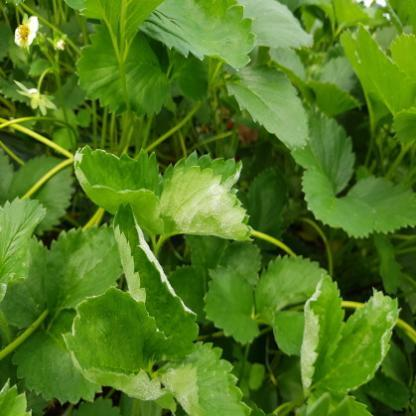Strawberry_Powdery_Mildew_Leaf: (112, 199, 200, 363), (61, 286, 172, 401), (318, 288, 402, 396), (158, 149, 254, 242), (72, 144, 165, 235), (154, 340, 252, 415), (298, 274, 346, 400)
